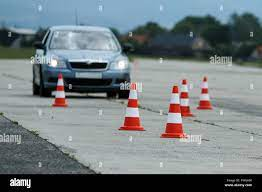car: (32, 25, 131, 98)
cone: (161, 86, 187, 138), (118, 83, 144, 131), (197, 76, 213, 110), (178, 79, 192, 117), (53, 73, 68, 107)
